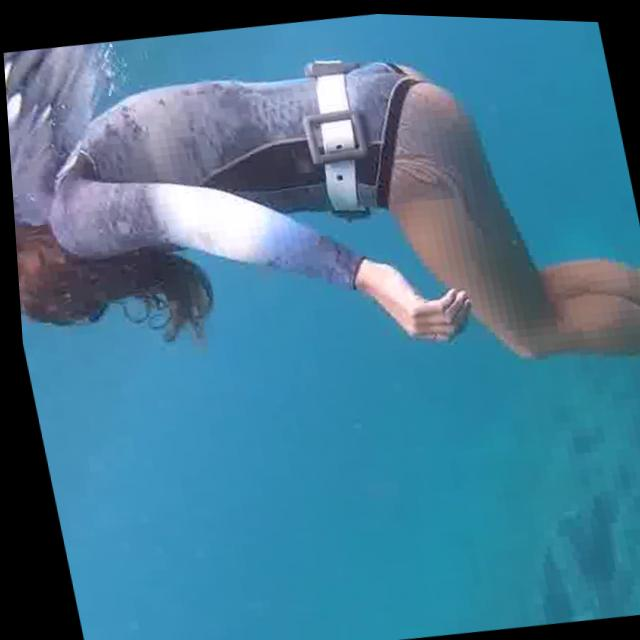human: (0, 1, 640, 508)
